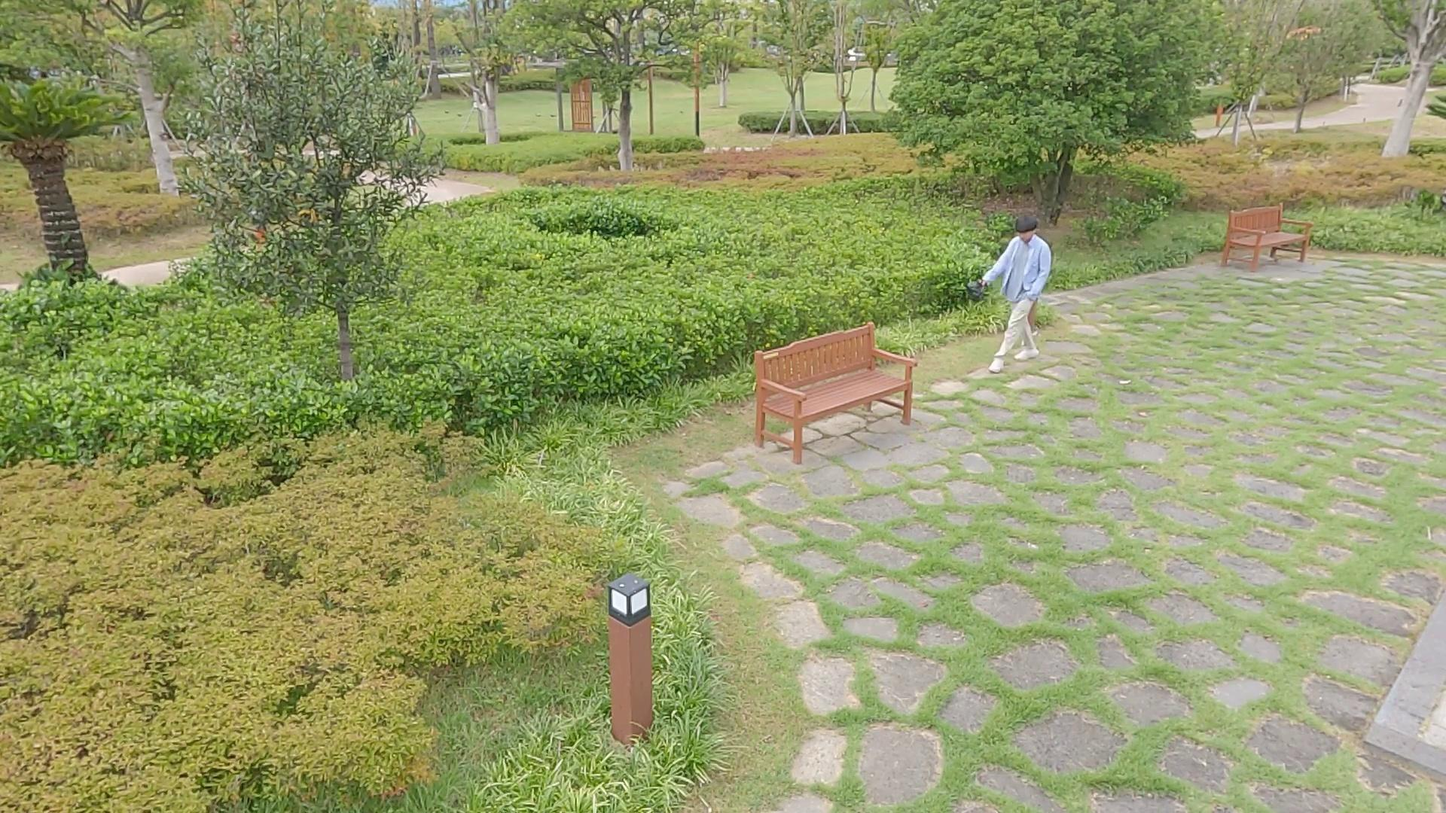person: (970, 212, 1050, 376)
